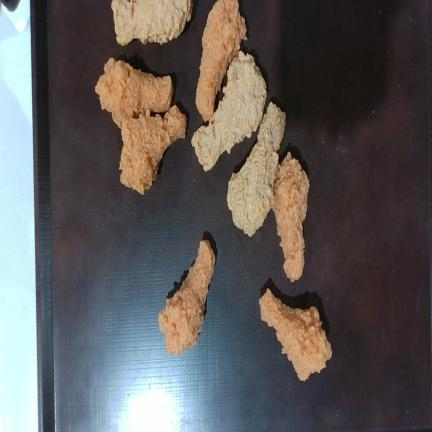chicken: (192, 51, 267, 170), (227, 103, 285, 236), (260, 289, 331, 380), (195, 0, 246, 121), (119, 105, 186, 194), (95, 58, 173, 127), (273, 152, 309, 281), (111, 0, 193, 45)
